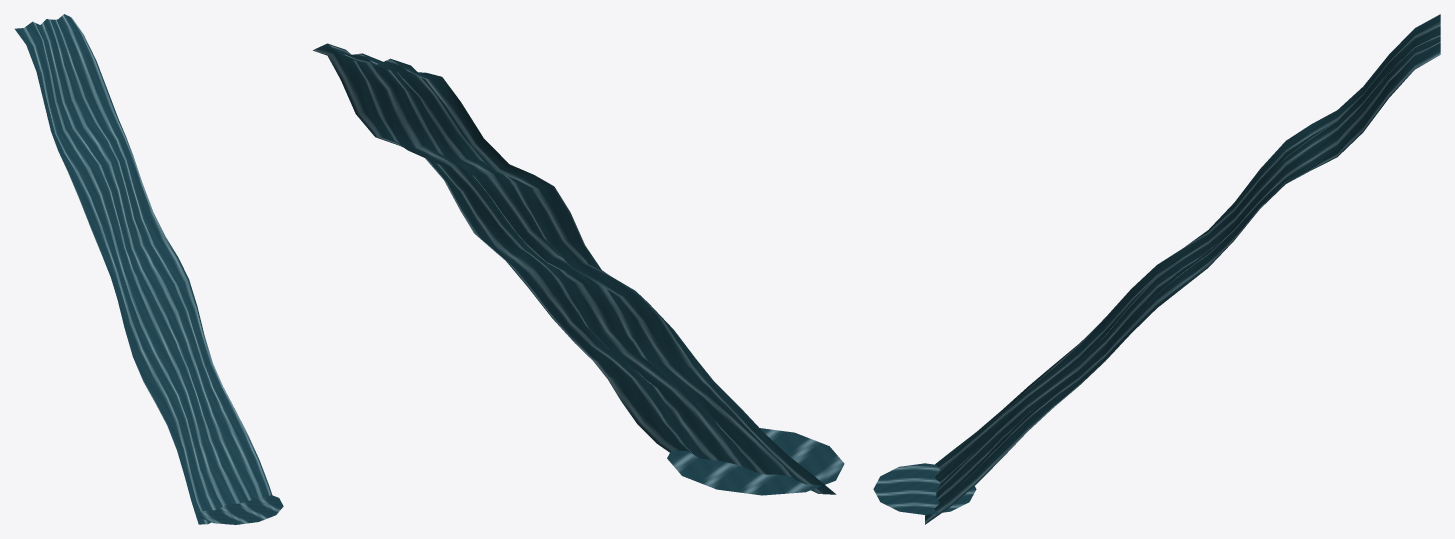
The model's file is cascade-narrow-lod0.glb.
The picture shows the model from 3 angles, left to right: view 1: azimuth 30°, elevation 25°; view 2: azimuth 150°, elevation 25°; view 3: azimuth 270°, elevation 25°; orthographic projection. The views are drawn at different scales.
Bounding box in the file's own units: 0.2391 × 1.01 × 1.1.
1 material, 1 textured.
